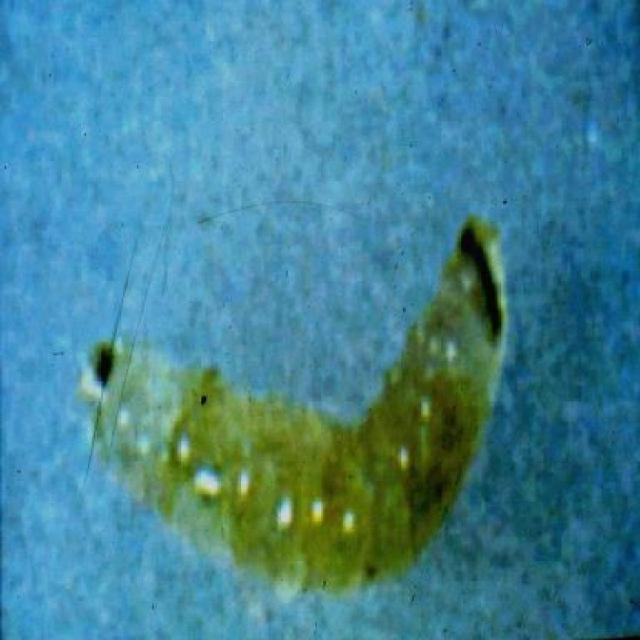whorl-maggot: (83, 212, 513, 598)
